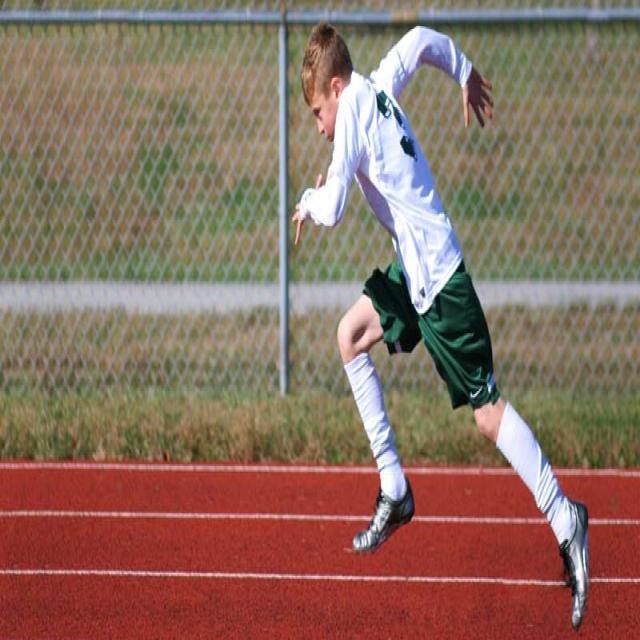Person: (294, 20, 588, 628)
